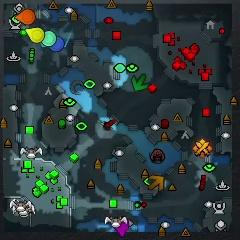Other: (192, 138, 213, 159)
p1: (49, 35, 64, 51)
p2: (41, 31, 57, 47)
p3: (113, 218, 129, 236)
p4: (26, 27, 45, 43)
p5: (15, 9, 35, 24)
x4: (131, 74, 147, 92)
x5: (150, 174, 164, 191)
